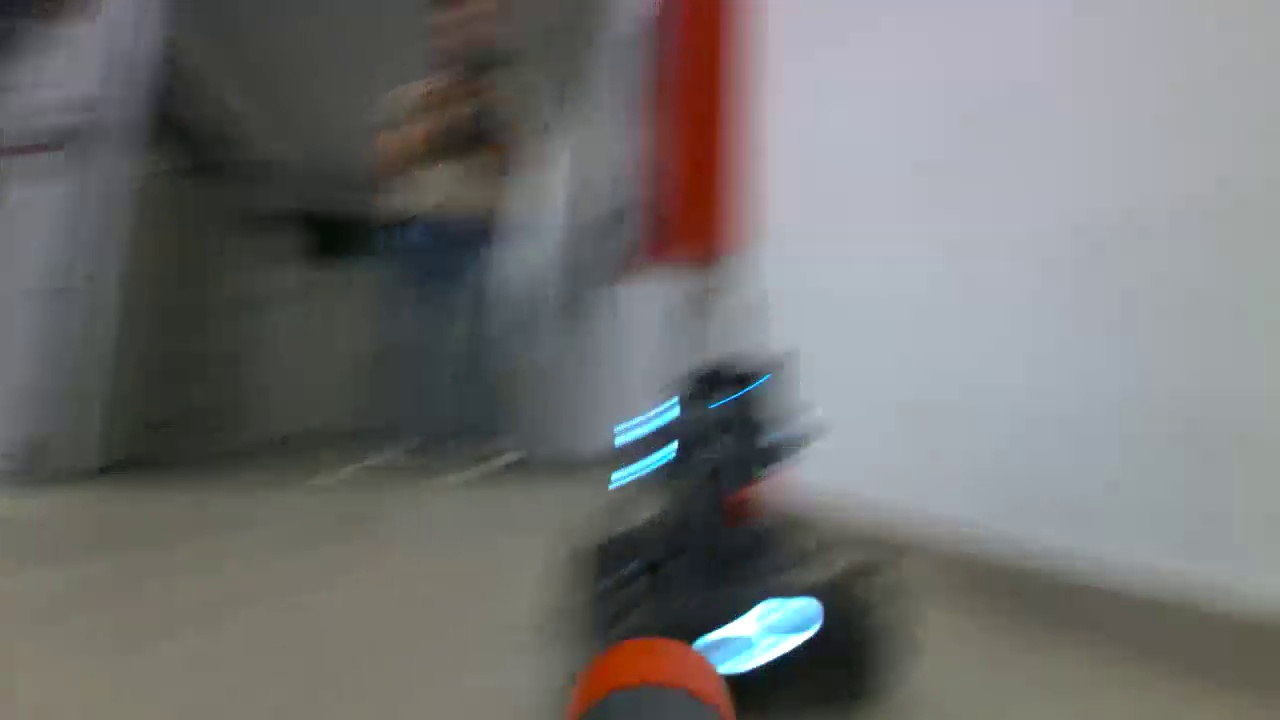robot: (587, 359, 906, 704)
